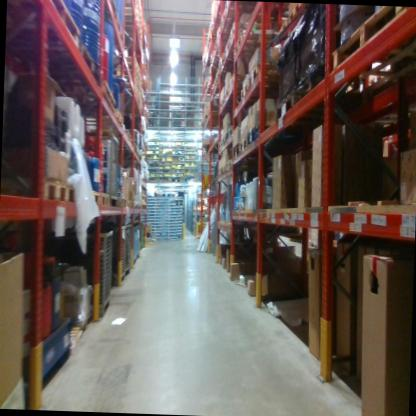pallet: (271, 60, 393, 139), (331, 5, 416, 89), (6, 0, 94, 45), (35, 42, 110, 90), (10, 172, 66, 207), (55, 83, 121, 111), (228, 22, 276, 55), (235, 31, 282, 60), (248, 61, 281, 95), (92, 18, 127, 48), (228, 70, 260, 99), (87, 0, 124, 24), (240, 79, 285, 96), (247, 121, 276, 146), (94, 179, 114, 210), (64, 179, 83, 205), (288, 5, 312, 23), (85, 182, 101, 207), (225, 119, 237, 144), (236, 136, 249, 157), (280, 18, 292, 34), (234, 141, 241, 162), (222, 132, 228, 147)
stillage: (40, 226, 117, 319), (109, 223, 127, 281), (120, 227, 135, 281)
